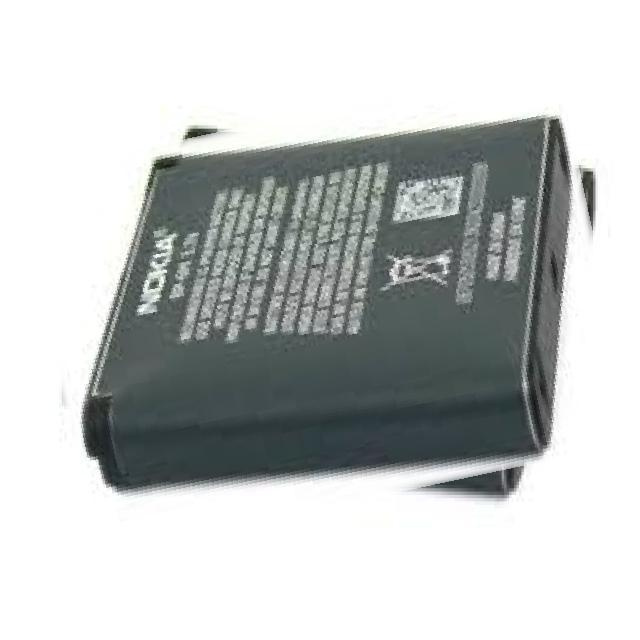Battery: (41, 100, 603, 507)
